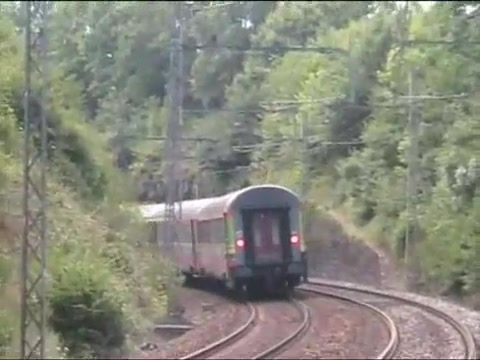train: (120, 185, 309, 298)
